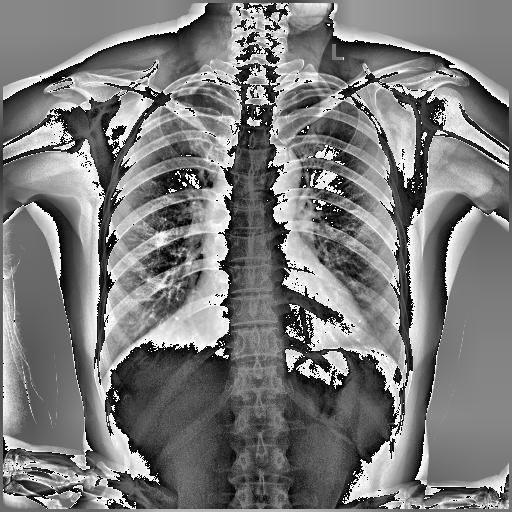0- Aortic enlargement: (261, 146, 302, 200)
13- Pulmonary fibrosis: (200, 87, 218, 114), (202, 91, 220, 105)
3- Cardiomegaly: (187, 271, 370, 349), (189, 288, 372, 354)
7- Lung Opacity: (186, 89, 226, 112)
9- Other lesion: (202, 91, 220, 105)
